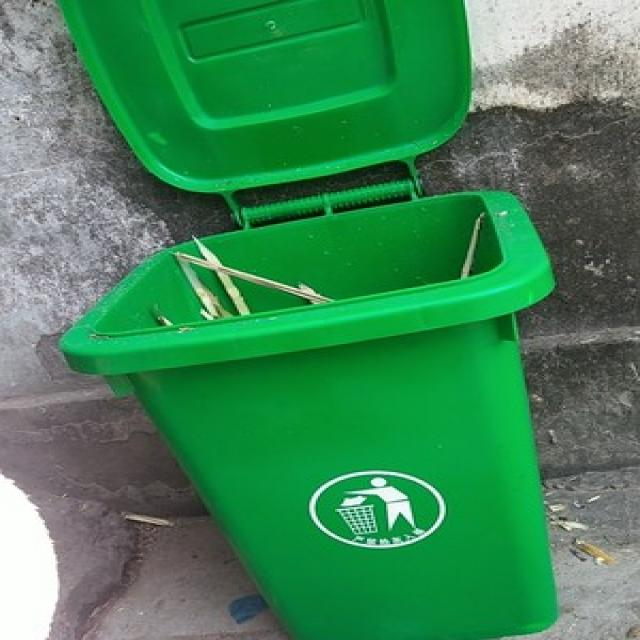ash bin: (52, 1, 550, 638)
